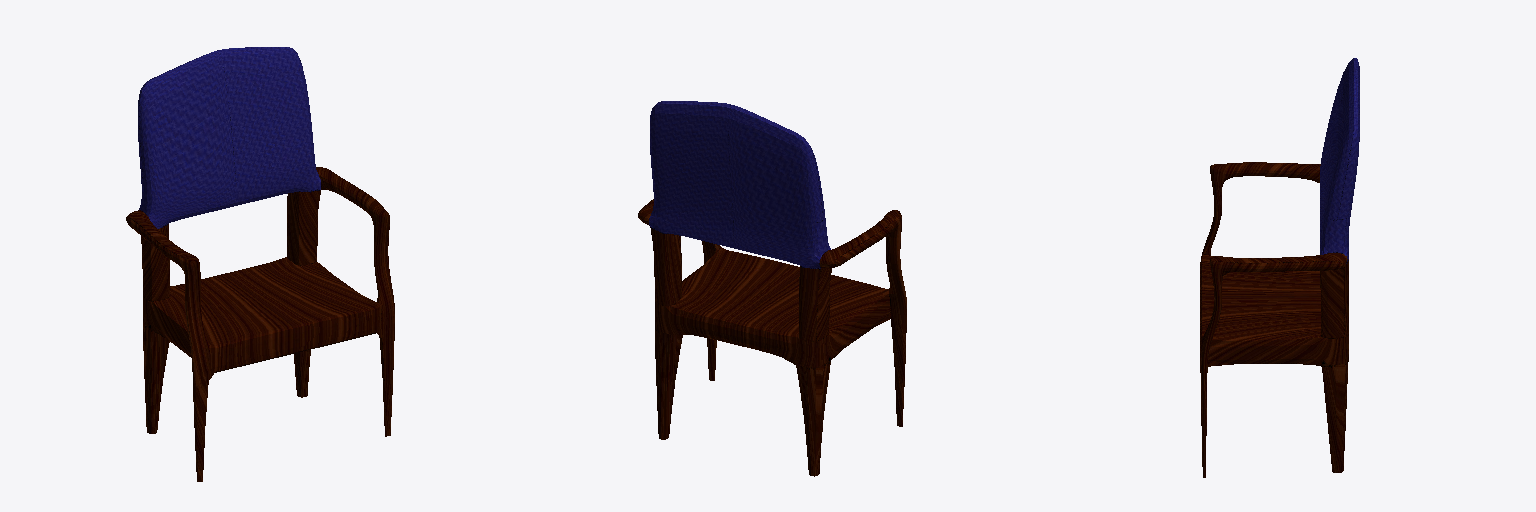
The picture shows the model from 3 angles: view 1: azimuth 30°, elevation 25°; view 2: azimuth 150°, elevation 25°; view 3: azimuth 270°, elevation 25°; orthographic projection.
Visible parts, largest first — view 1: polySurface2 polySurface1SmoothProxyGroup; view 2: polySurface2 polySurface1SmoothProxyGroup; view 3: polySurface2 polySurface1SmoothProxyGroup.
Boxes of the visible parts, box(x1,y1,x2,y2) form: polySurface2 polySurface1SmoothProxyGroup: box(126, 47, 394, 481); polySurface2 polySurface1SmoothProxyGroup: box(638, 101, 906, 476); polySurface2 polySurface1SmoothProxyGroup: box(1200, 58, 1359, 477).
Bounding box in the file's own units: 1.41 × 2.29 × 0.9252.
Materials: 1 (1 with a texture image).